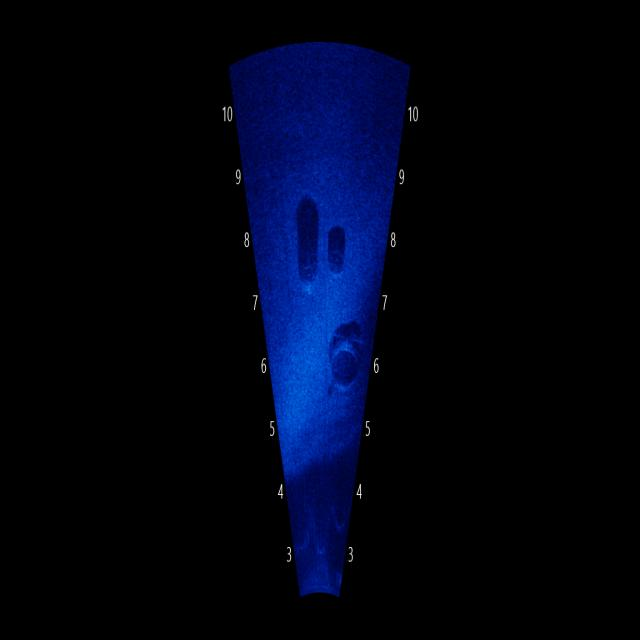circle: (323, 314, 368, 399), (318, 212, 351, 282), (294, 247, 324, 306)
